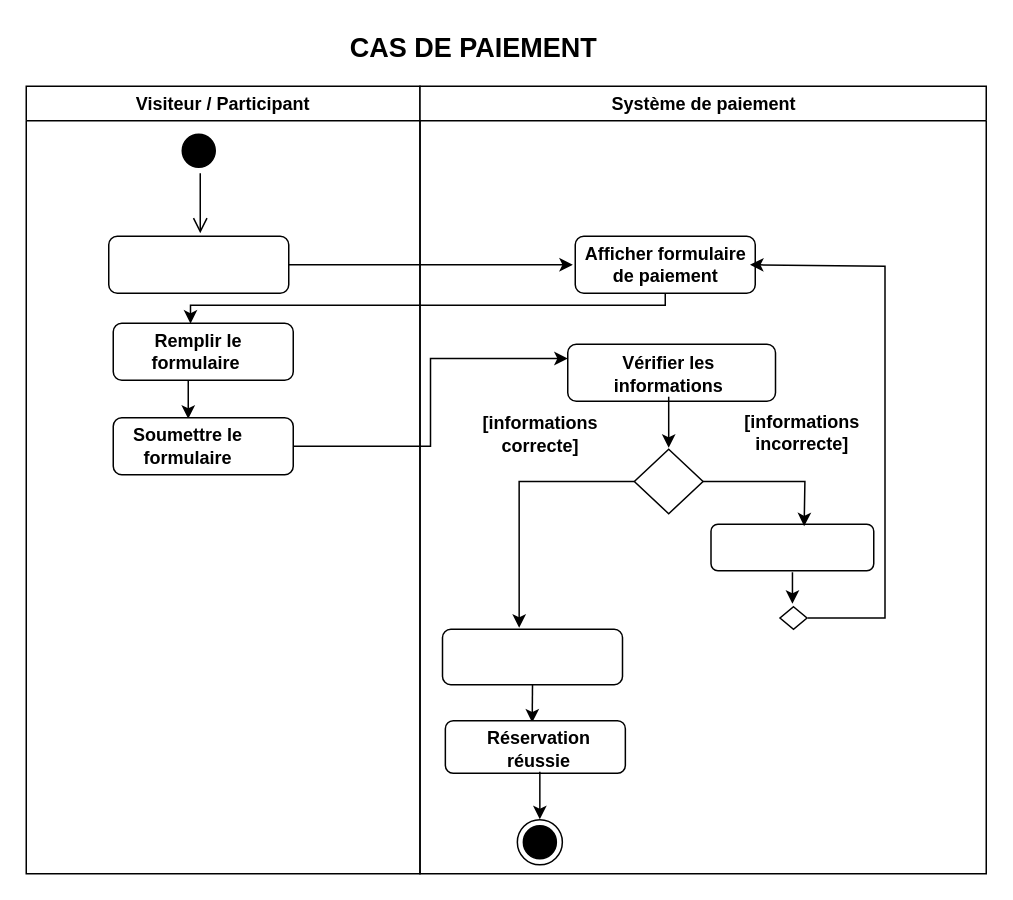
Some shapes in this 1013 by 900 pixel diagram are drawn without their labels. The centre of each missing label's shape, as x and y in pixels:
"Demande de reservation" goes at point 198,264.
"Envoyer un mail de validation" goes at point 531,656.
"Message d'erreur" goes at point 792,547.
